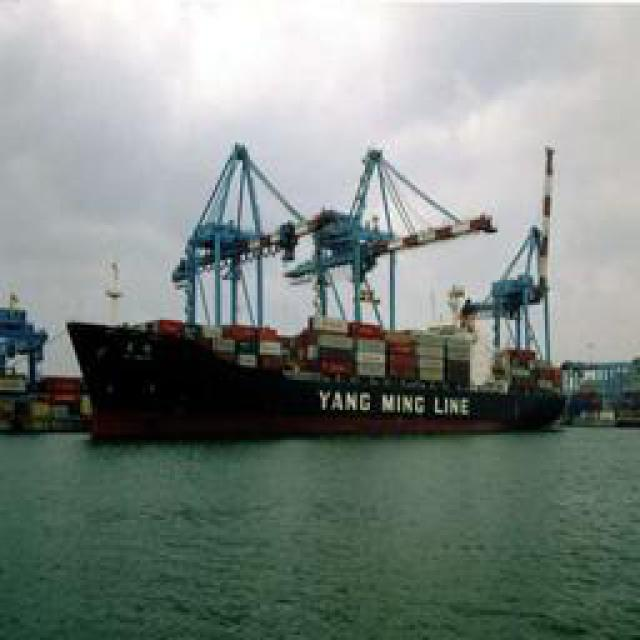Ship: (75, 132, 610, 435)
